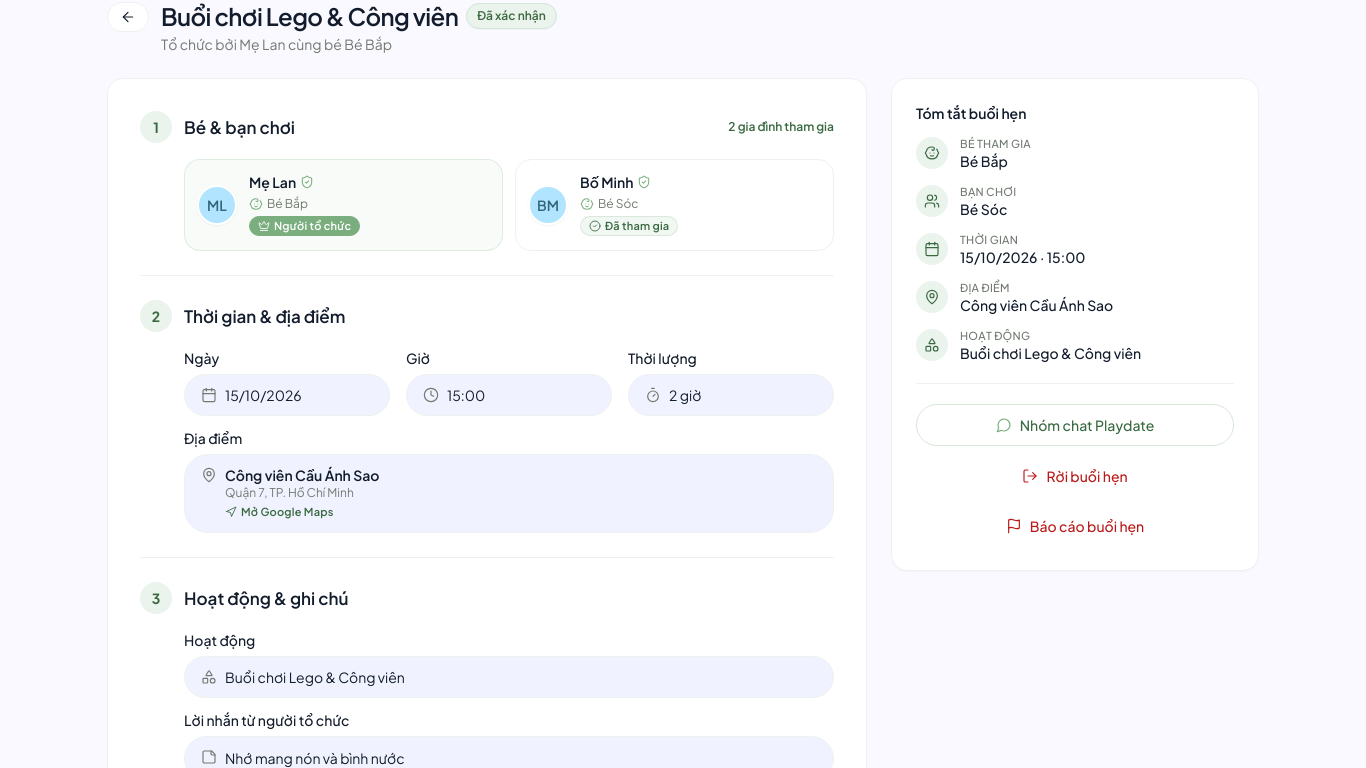
PlaydateDetailPage Component › shows "Rời buổi hẹn" only when the API allows it, and leaves after confirming
Click the button "Rời buổi hẹn". click: (1075,476)
box: left=916, top=456, right=1234, bottom=496
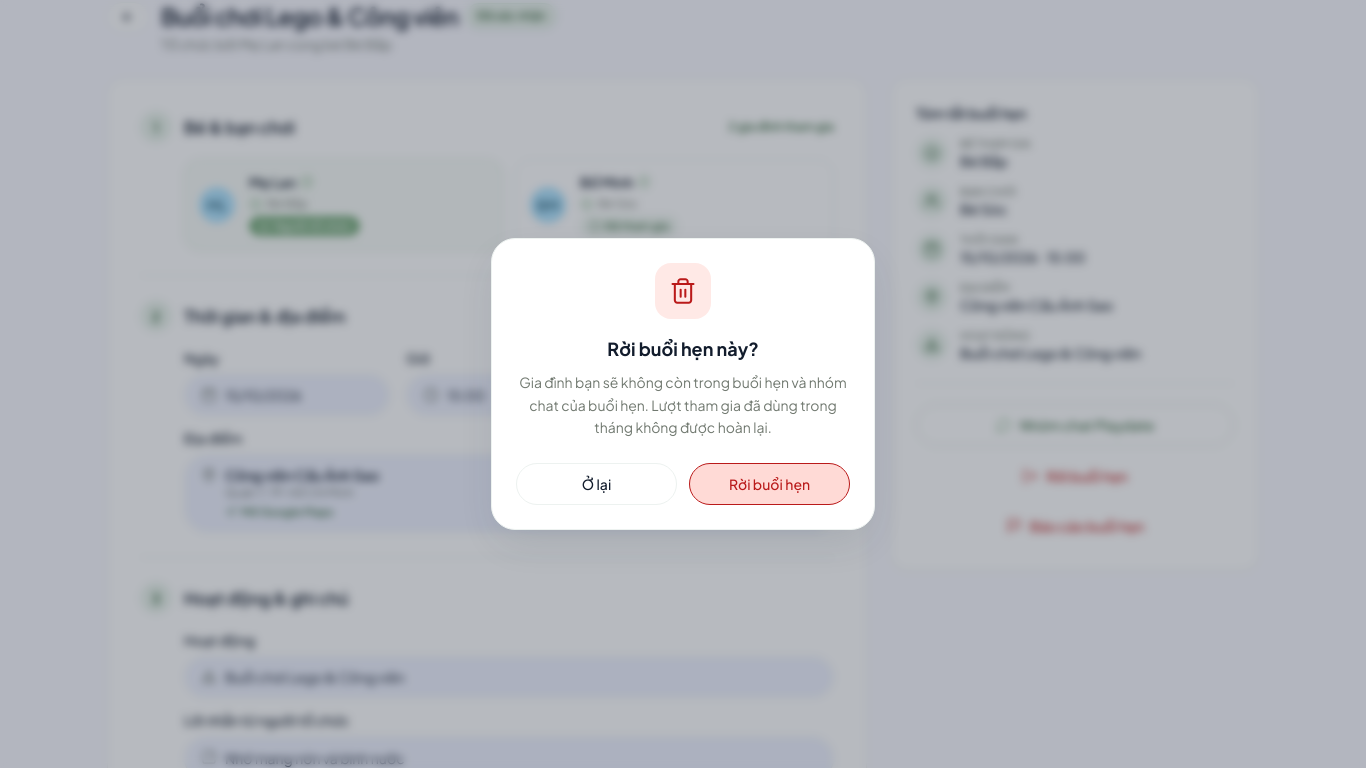
Result: the heading "Rời buổi hẹn này?" is shown at left=607, top=337, right=759, bottom=360
Click the button "Rời buổi hẹn". click: (770,484)
box: left=689, top=463, right=850, bottom=505
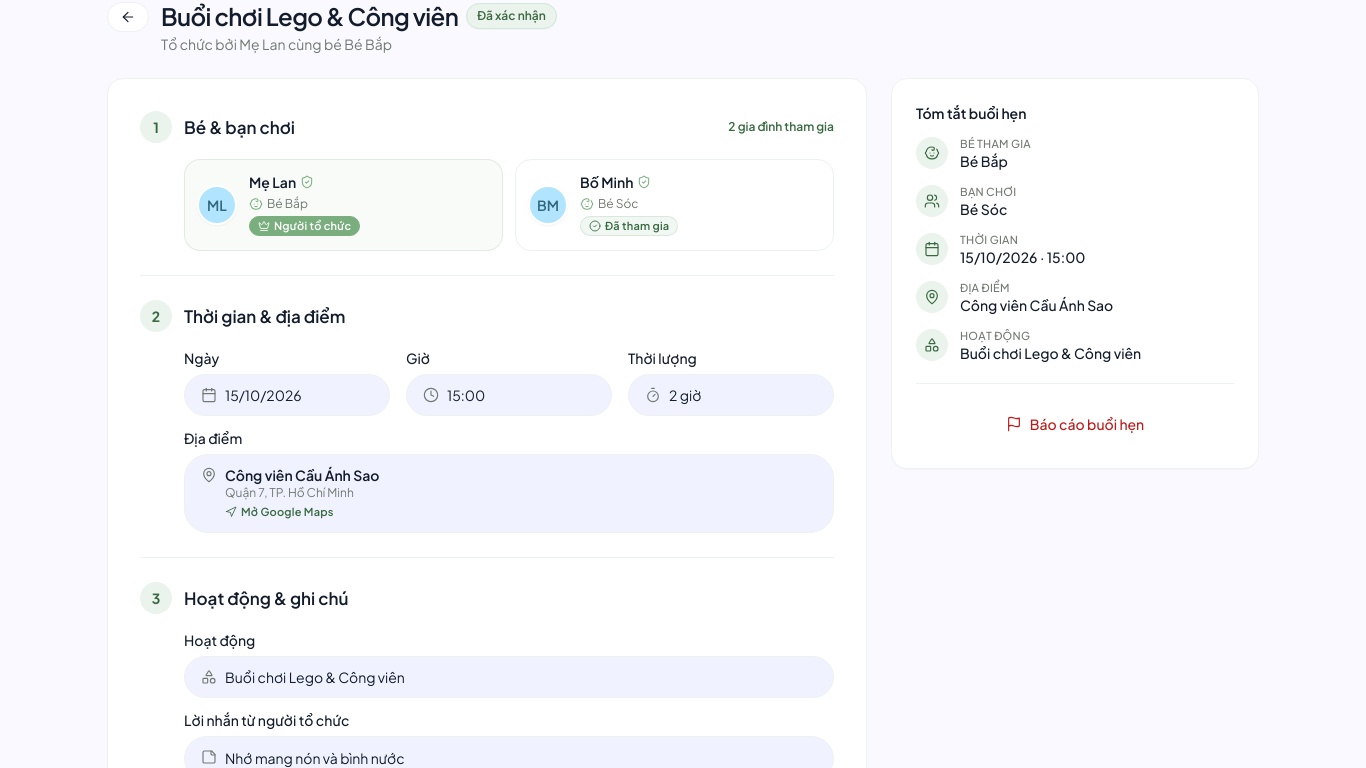
Result: the button "Rời buổi hẹn" is gone
